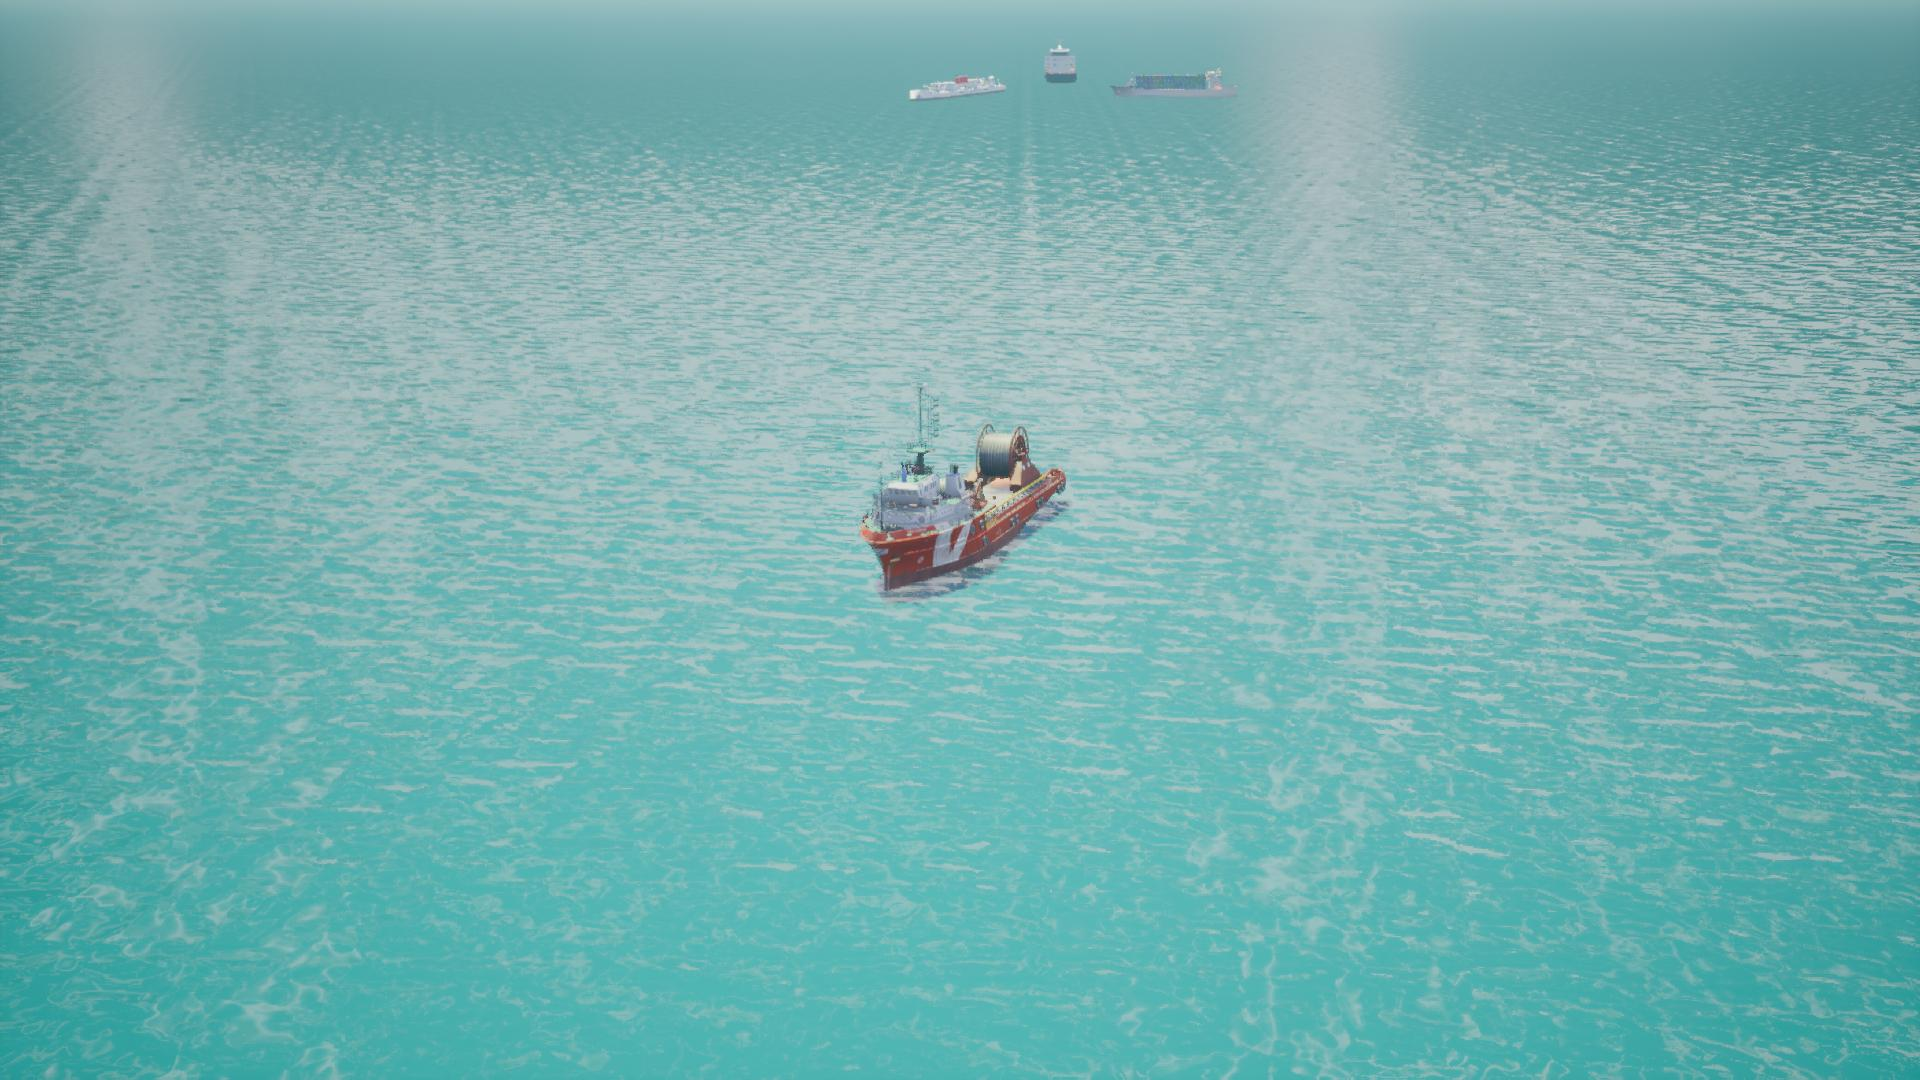Tug Boat: (860, 431, 1062, 597)
